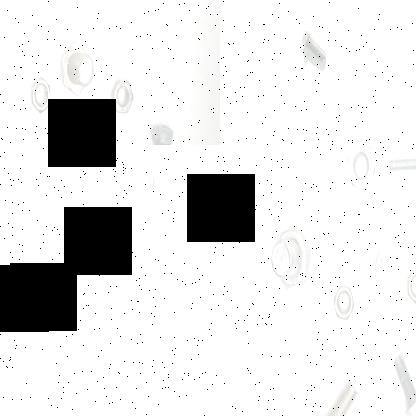Bolts: (270, 223, 316, 301), (58, 40, 97, 112), (309, 375, 367, 416), (388, 345, 416, 416), (384, 145, 416, 198), (299, 24, 330, 70), (364, 246, 390, 278), (147, 121, 180, 145), (143, 172, 159, 196)
NUTS: (341, 145, 377, 204), (326, 282, 358, 328), (109, 73, 135, 127), (23, 75, 55, 117), (404, 266, 416, 312)
